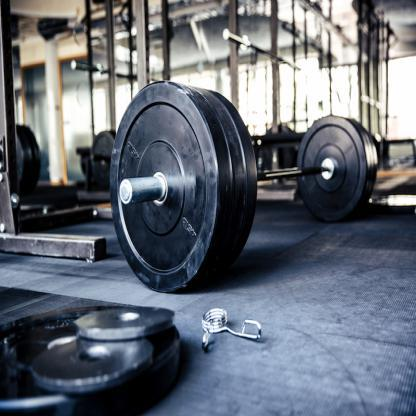Barbell: (96, 76, 270, 297)
